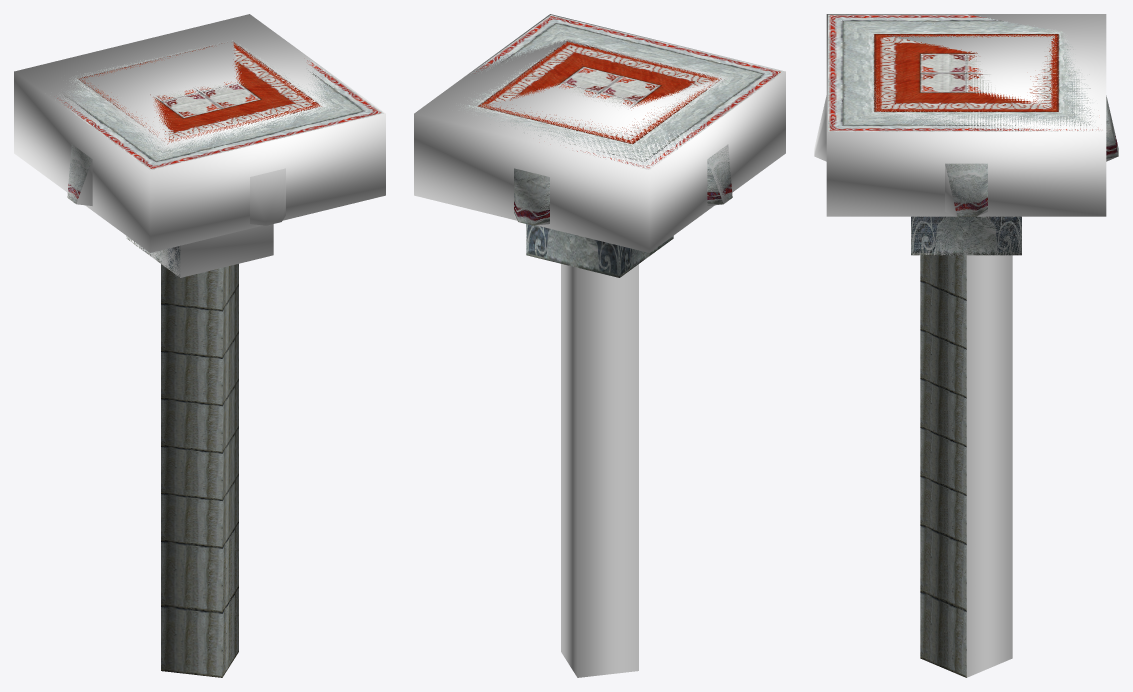
Rendered from RisingPlatformMediumCombined.obj.
3 views of the same model, side by side, from view 1: azimuth 30°, elevation 25°; view 2: azimuth 150°, elevation 25°; view 3: azimuth 270°, elevation 25° (orthographic). The views are drawn at different scales.
Bounding box in the file's own units: 165 × 350 × 165.
Materials: 12 (12 with a texture image).
